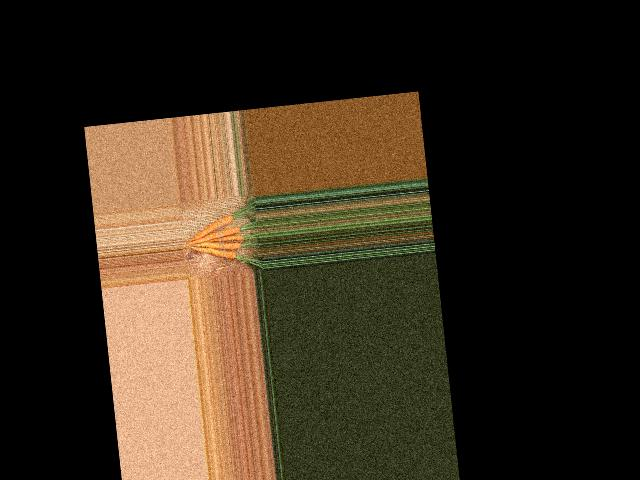carrot: (193, 242, 237, 263)
